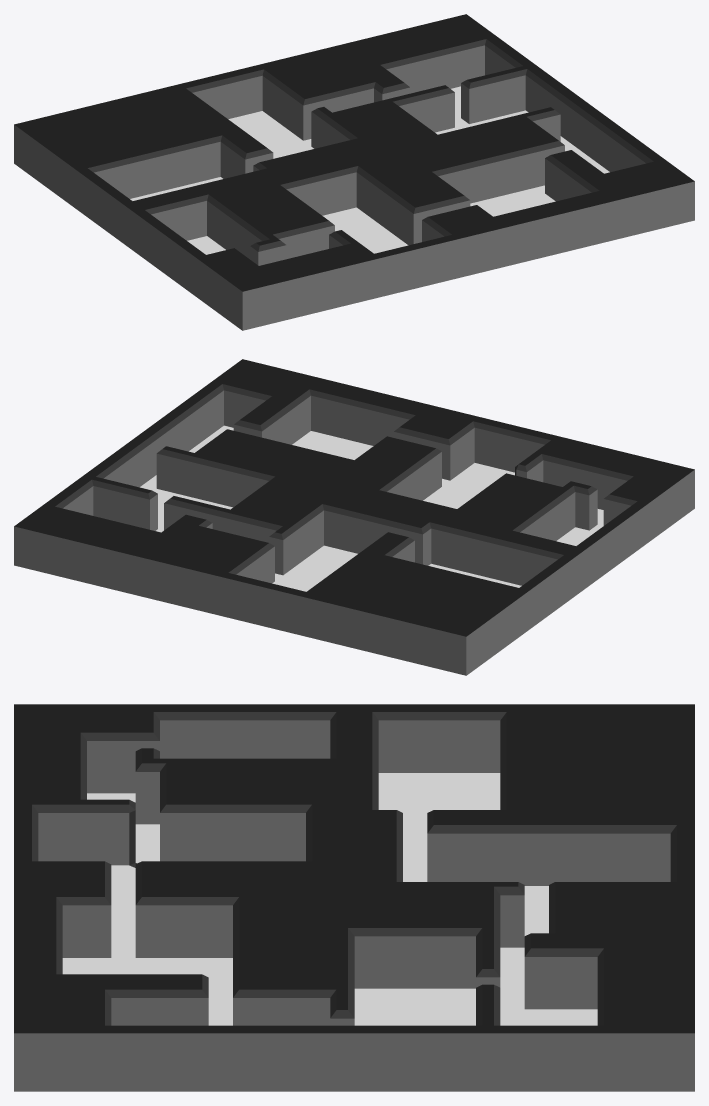
Rendered from lv6Old.fbx.
3 renders of one model, top to bottom at view 1: azimuth 30°, elevation 25°; view 2: azimuth 150°, elevation 25°; view 3: azimuth 270°, elevation 25°, orthographic. The views are drawn at different scales.
Parts seen in each view (by area): view 1: lvl6old; view 2: lvl6old; view 3: lvl6old.
Part boxes in pixels (left/top/right/bottom): lvl6old: left=14, top=14, right=694, bottom=330; lvl6old: left=14, top=359, right=694, bottom=675; lvl6old: left=14, top=704, right=694, bottom=1091.
Size of the model in its own units: 2909 by 240 by 2545.
